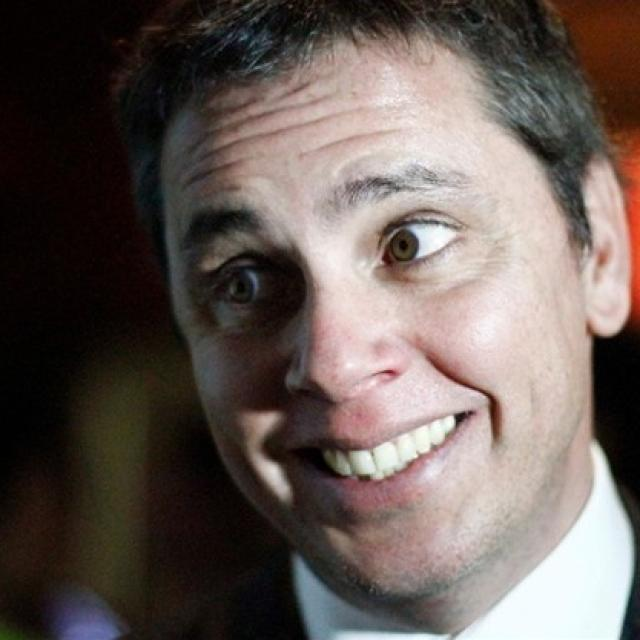Normal: (159, 32, 597, 605)
